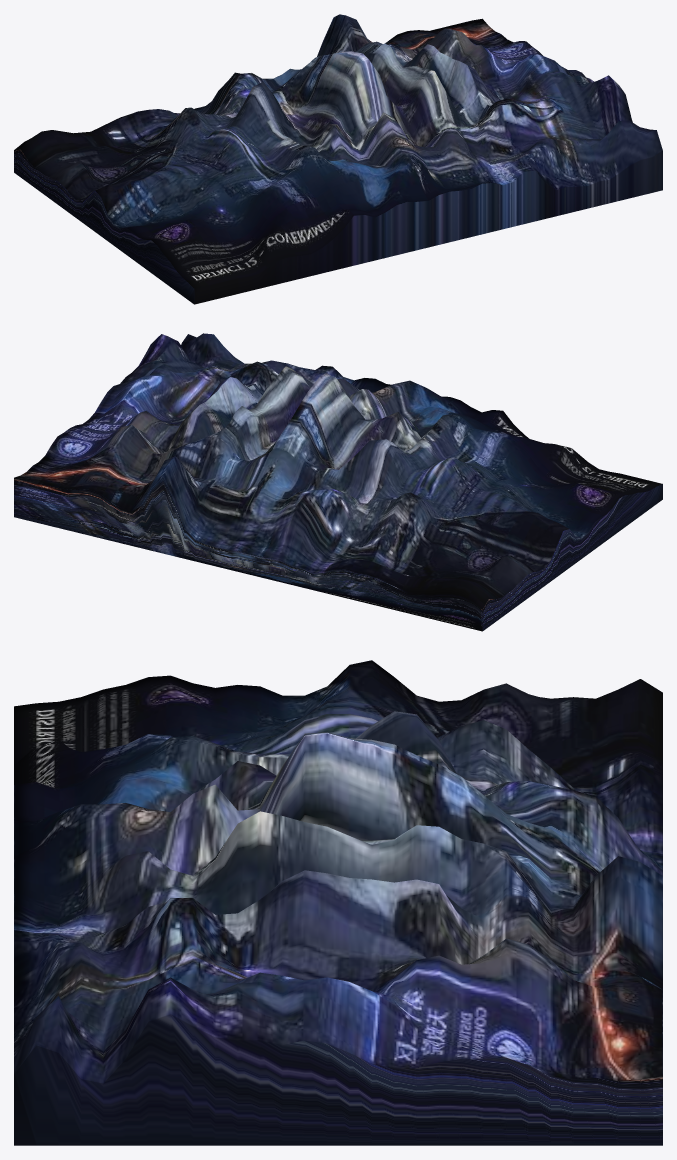
File: DISTRICT_12_Government.glb
The picture shows the model from 3 angles, top to bottom: view 1: azimuth 30°, elevation 25°; view 2: azimuth 150°, elevation 25°; view 3: azimuth 270°, elevation 25°; orthographic projection. The views are drawn at different scales.
Visible parts, largest first — view 1: DISTRICT_12_Government; view 2: DISTRICT_12_Government; view 3: DISTRICT_12_Government.
Part boxes in pixels (<box>): DISTRICT_12_Government: <box>14,14,662,304</box>; DISTRICT_12_Government: <box>14,333,662,631</box>; DISTRICT_12_Government: <box>14,660,662,1145</box>.
Size of the model in its own units: 2 by 0.51 by 1.33.
1 material, 1 textured.
